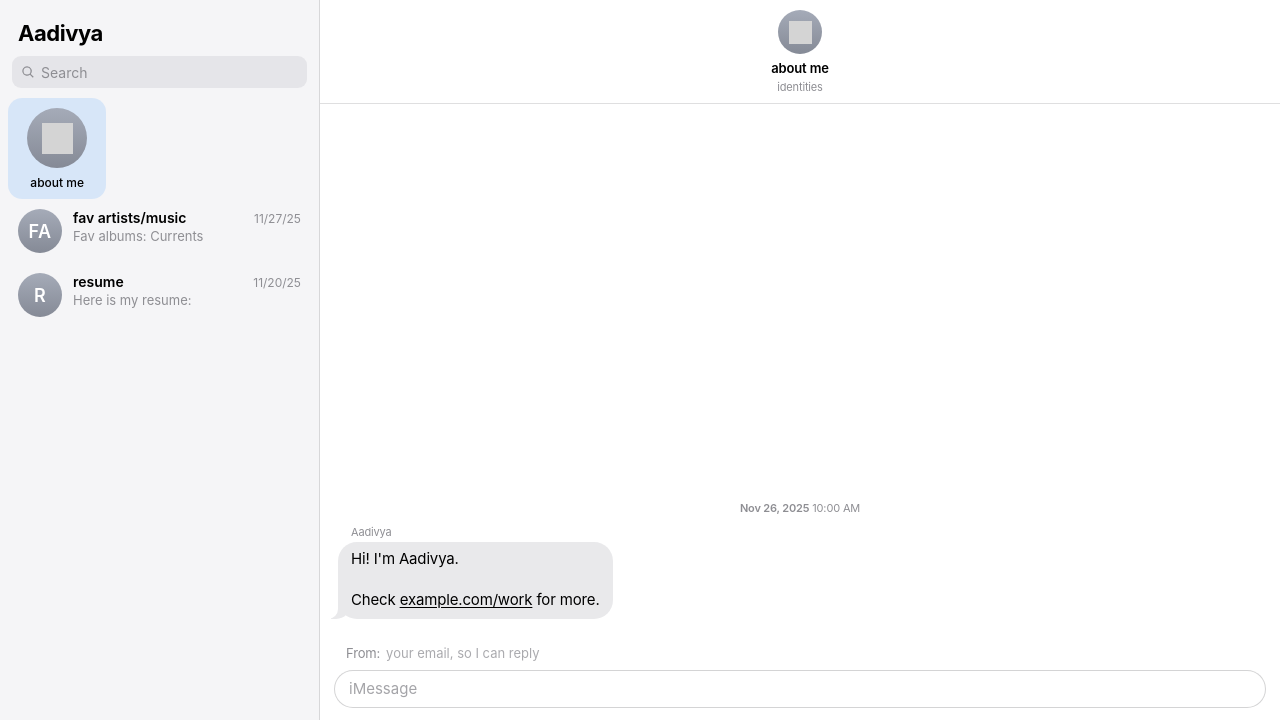
Scenario: MessagesApp › switches thread when you select a conversation
Click the button "R resume 11/20/25 Here is my resume:" at [160, 295], box top-left (8, 263), bottom-right (311, 327)
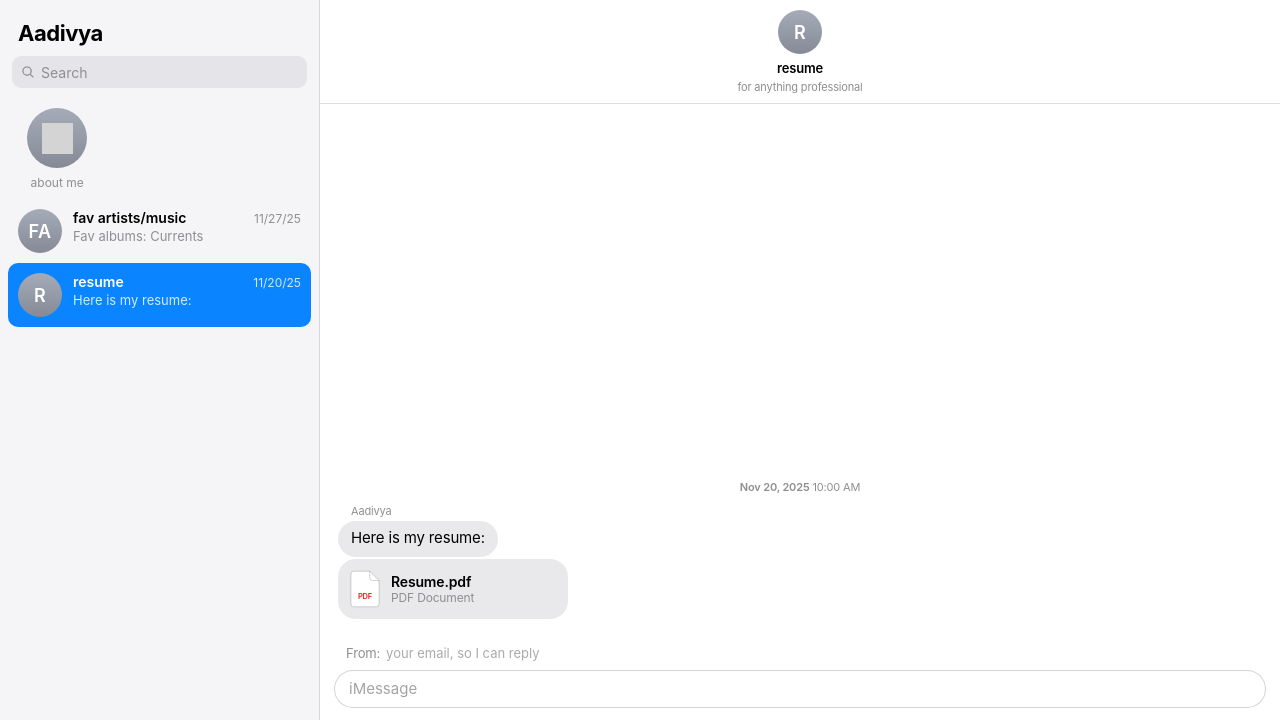
Check: the heading "resume" is shown, box top-left (777, 60), bottom-right (823, 76)
